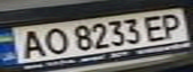2: (90, 20, 112, 50)
3: (121, 16, 145, 44), (106, 18, 127, 47)
8: (69, 21, 93, 52)
A: (12, 28, 48, 60)
E: (139, 11, 172, 43)
O: (36, 25, 69, 56)
P: (157, 11, 190, 39)
